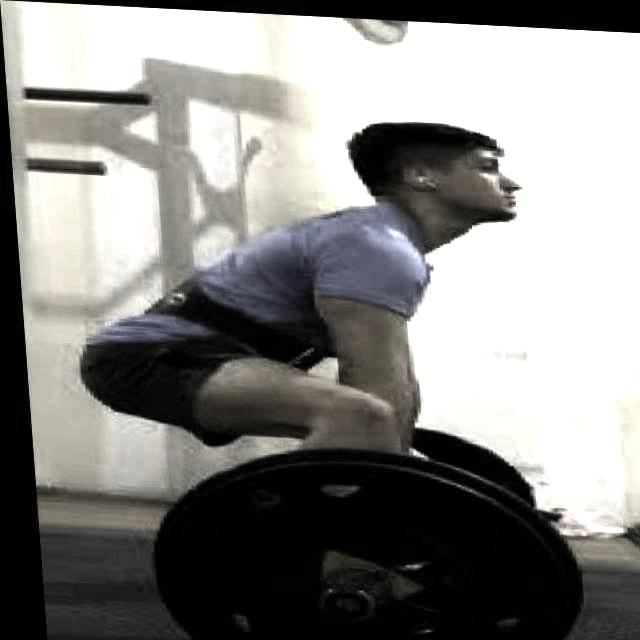barbell: (131, 432, 585, 640)
